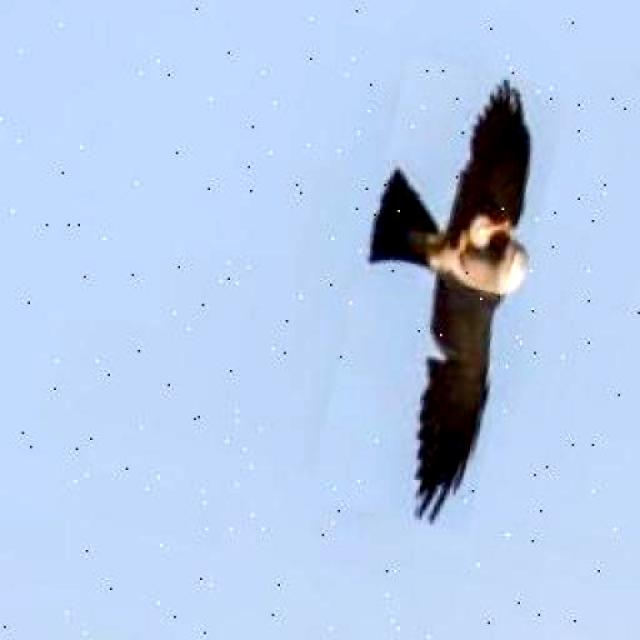airplane: (306, 54, 568, 534)
